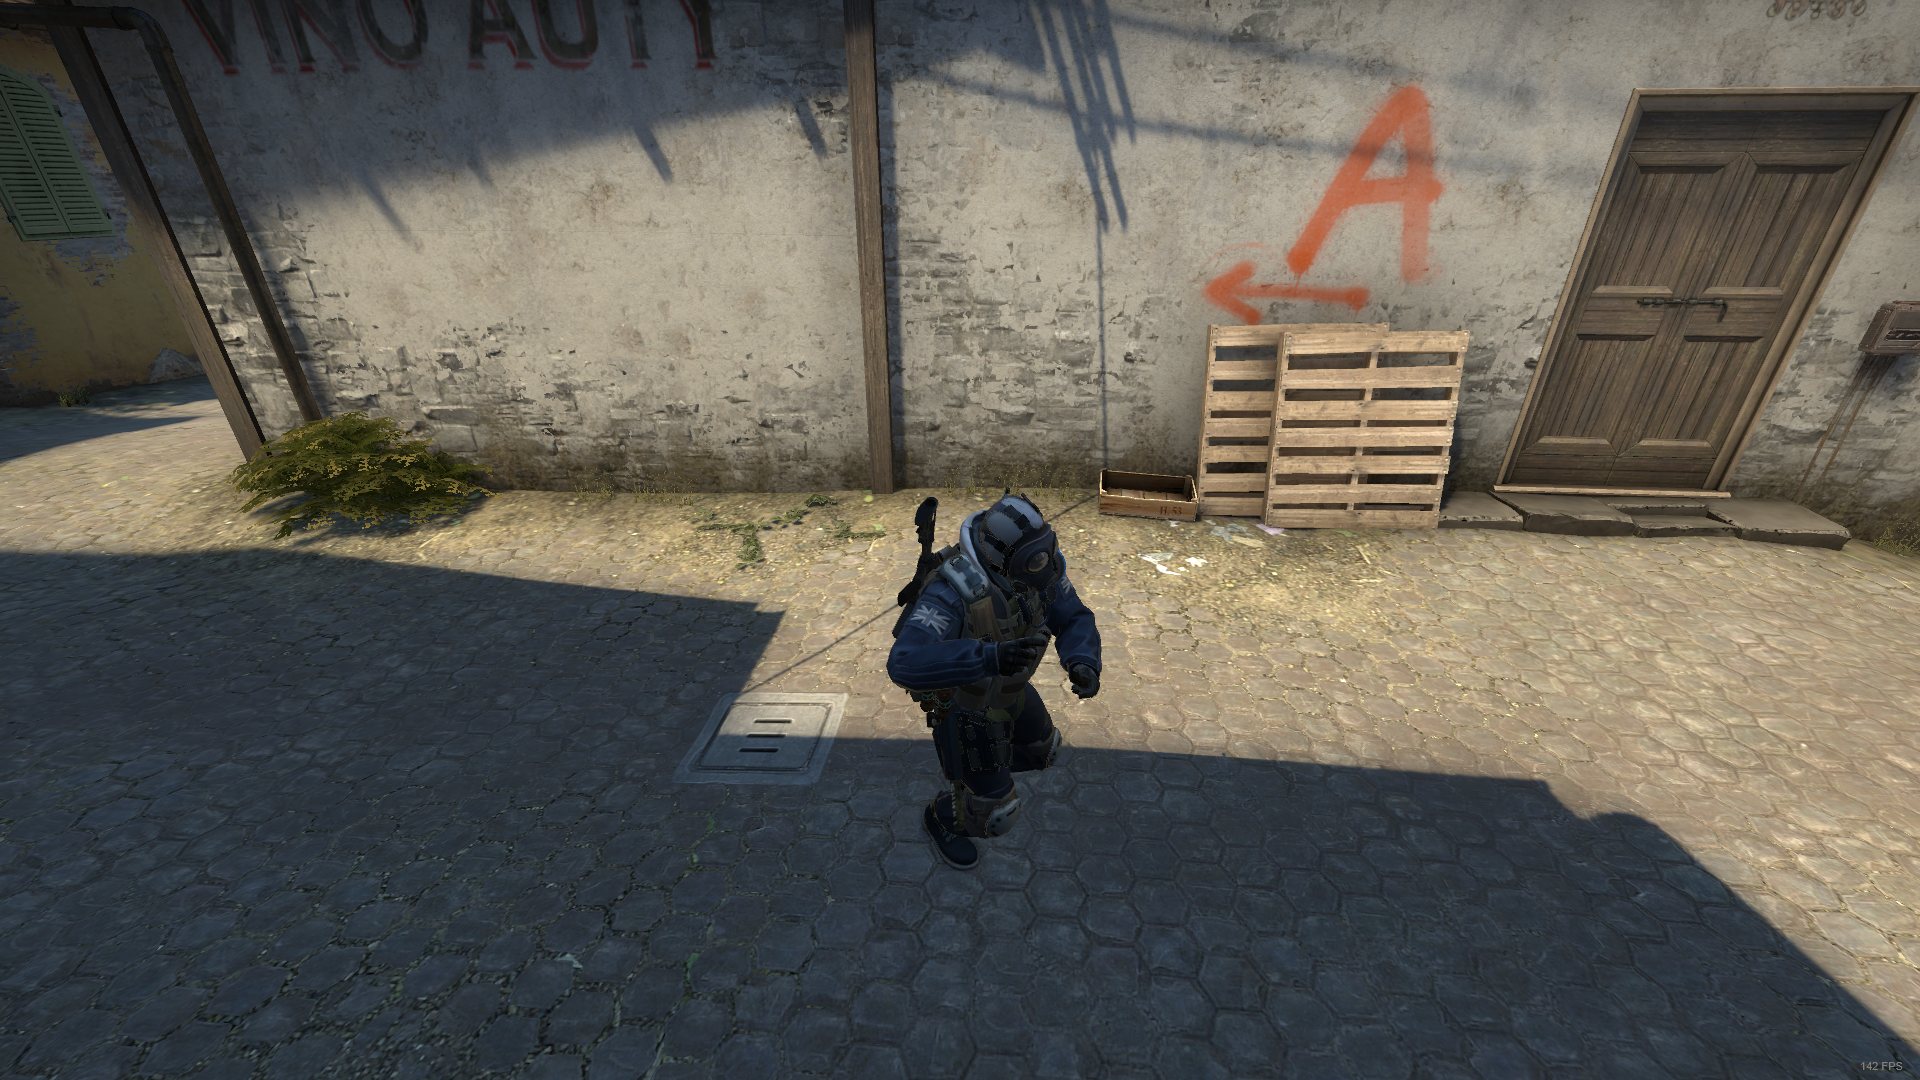ct: (891, 491, 1101, 868)
